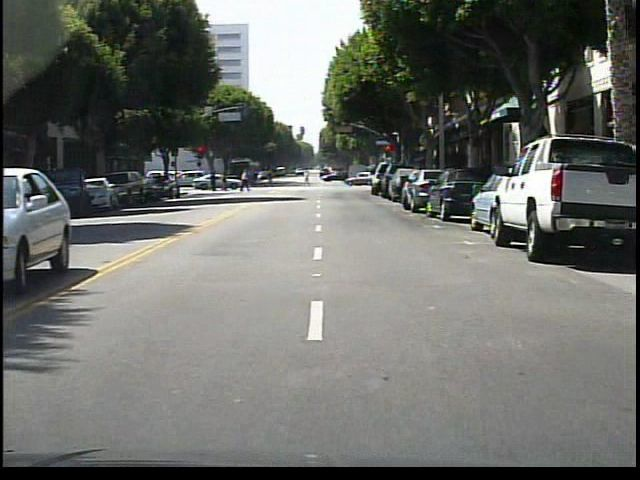person: (238, 166, 258, 195)
